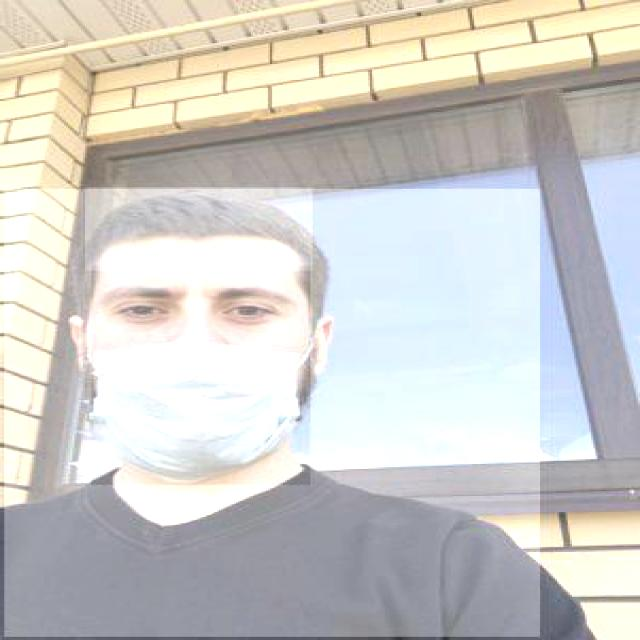face_mask: (92, 266, 310, 484)
head_nohelmet: (85, 188, 313, 270)
person: (2, 189, 540, 638)
